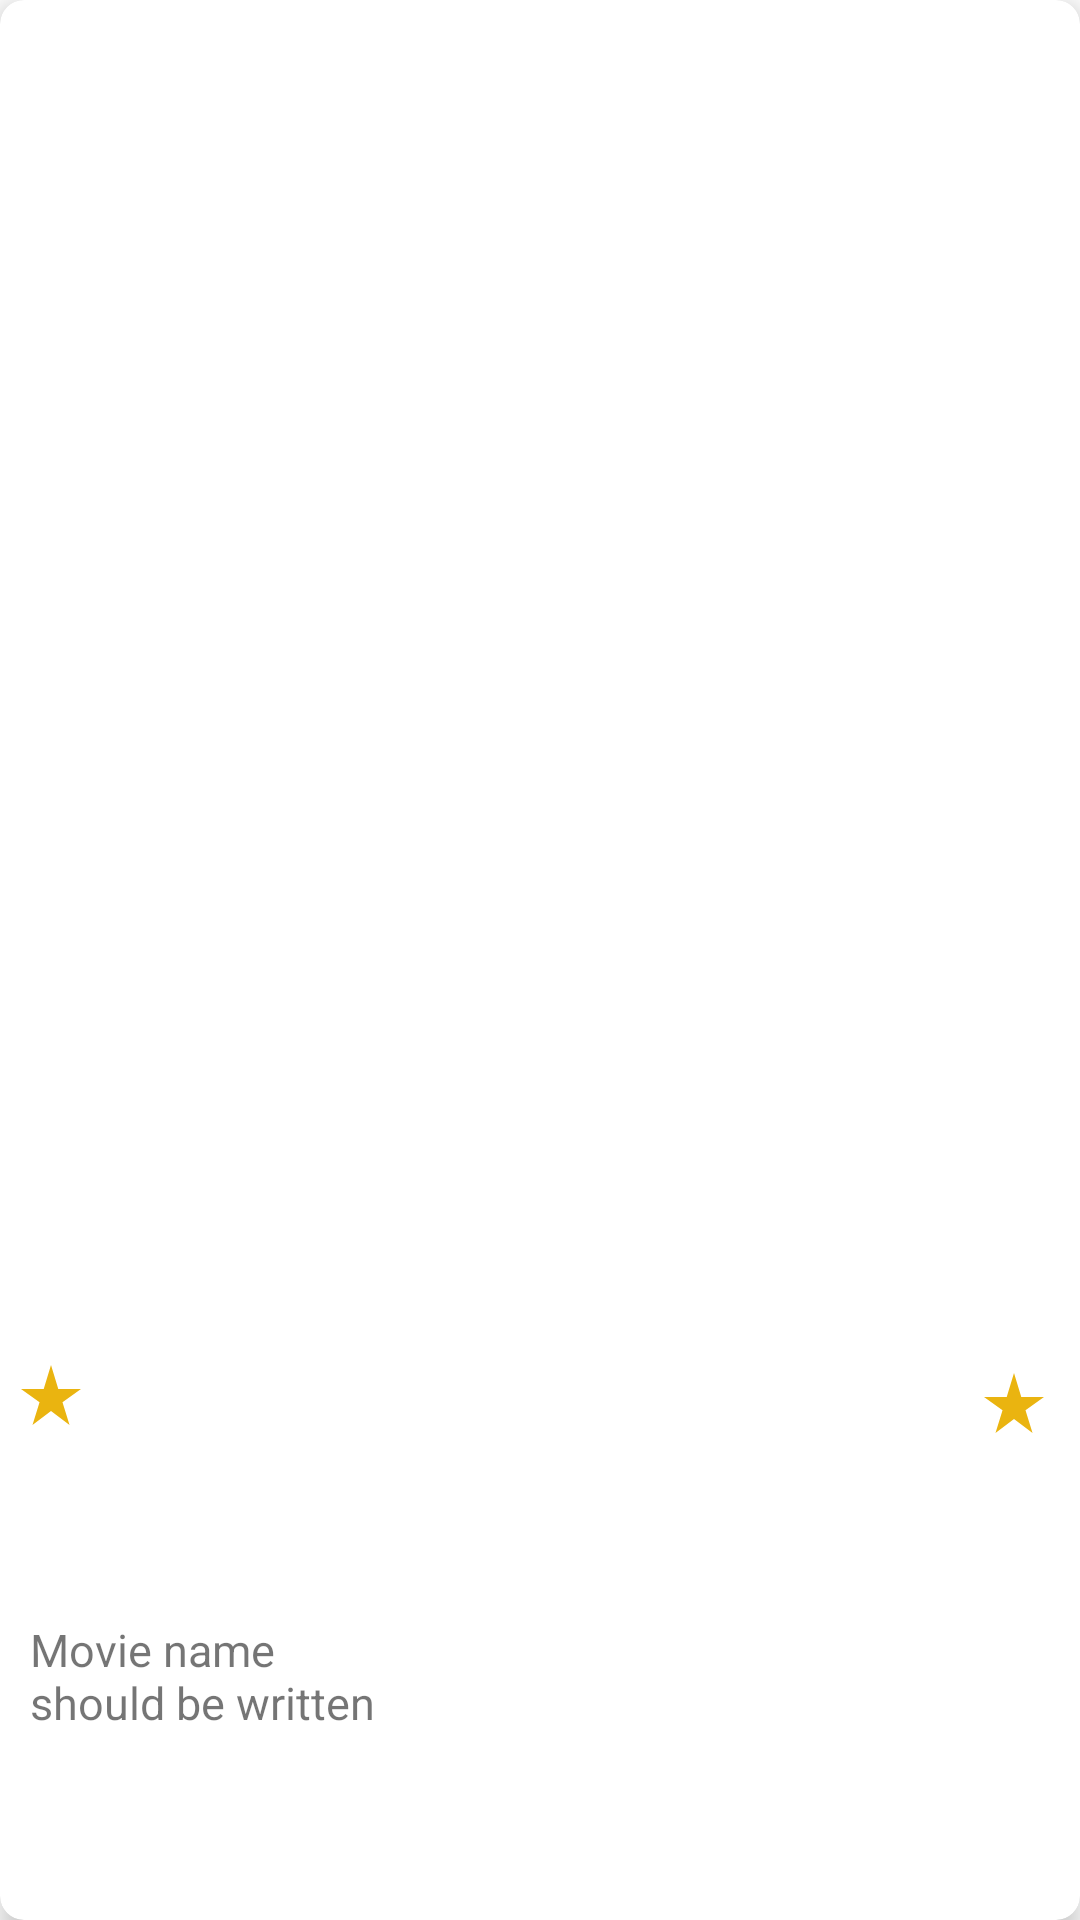

Icon bounding boxes for this 1080 x 1920 phone screenshot, format [left=x1, top=y1, right=x2, bottom=y2]:
star: [left=21, top=1365, right=81, bottom=1425], [left=984, top=1373, right=1044, bottom=1433]
